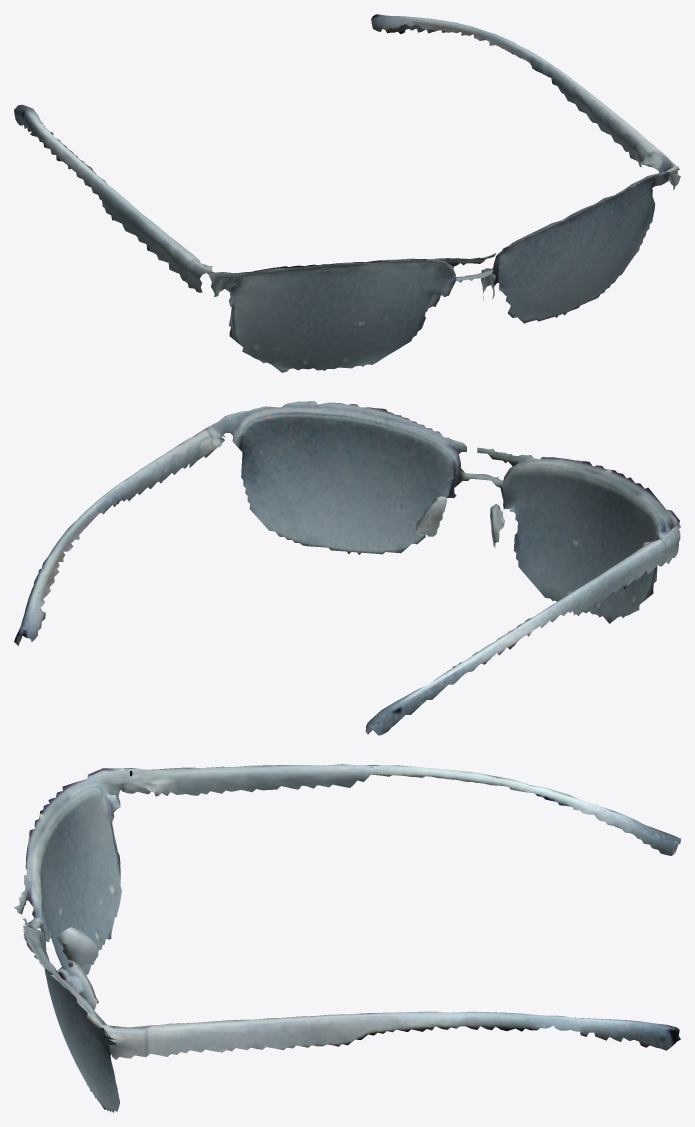
File: scan_align.obj
3 views of the same model, one above another, from view 1: azimuth 30°, elevation 25°; view 2: azimuth 150°, elevation 25°; view 3: azimuth 270°, elevation 25° (orthographic). The views are drawn at different scales.
Bounding box in the file's own units: 0.1475 × 0.0383 × 0.1592.
Materials: 1 (1 with a texture image).
